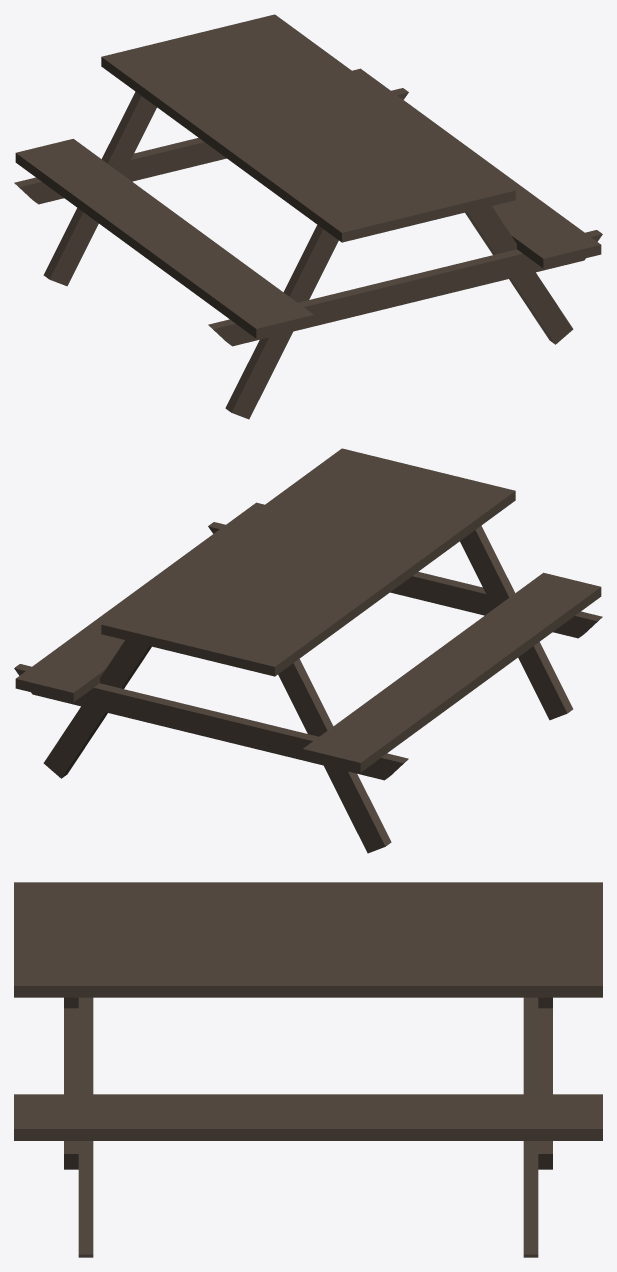
File: SM_Prop_cafe_picnic_1_LOD2.glb
The picture shows the model from 3 angles, top to bottom: view 1: azimuth 30°, elevation 25°; view 2: azimuth 150°, elevation 25°; view 3: azimuth 270°, elevation 25°; orthographic projection. The views are drawn at different scales.
Parts seen in each view (by area): view 1: SM_Prop_cafe_picnic_1_LOD2; view 2: SM_Prop_cafe_picnic_1_LOD2; view 3: SM_Prop_cafe_picnic_1_LOD2.
Part boxes in pixels (<box>): SM_Prop_cafe_picnic_1_LOD2: <box>14,14,602,419</box>; SM_Prop_cafe_picnic_1_LOD2: <box>14,448,602,853</box>; SM_Prop_cafe_picnic_1_LOD2: <box>14,882,602,1257</box>.
Size of the model in its own units: 1.68 by 0.7831 by 1.8.
